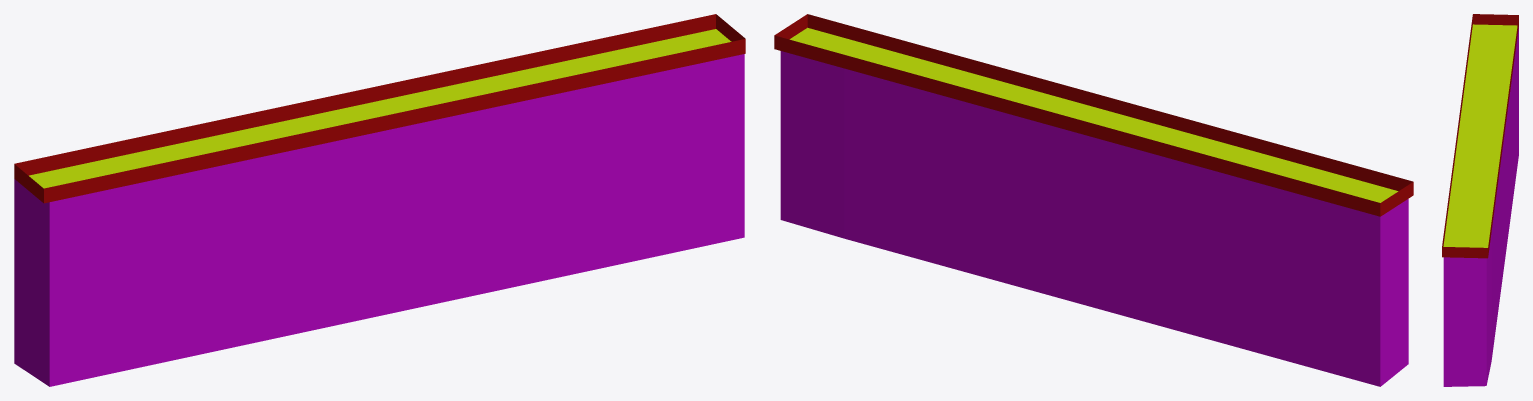
File: bgj_350.glb
3 renders of one model, left to right at view 1: azimuth 30°, elevation 25°; view 2: azimuth 150°, elevation 25°; view 3: azimuth 270°, elevation 25°, orthographic. The views are drawn at different scales.
Parts seen in each view (by area): view 1: bgj_350; view 2: bgj_350; view 3: bgj_350.
Boxes of the visible parts, x1,y1,x2,y2 form: bgj_350: [14, 14, 745, 386]; bgj_350: [774, 14, 1413, 386]; bgj_350: [1442, 14, 1518, 386].
Bounding box in the file's own units: 16.78 × 4.69 × 2.33.
